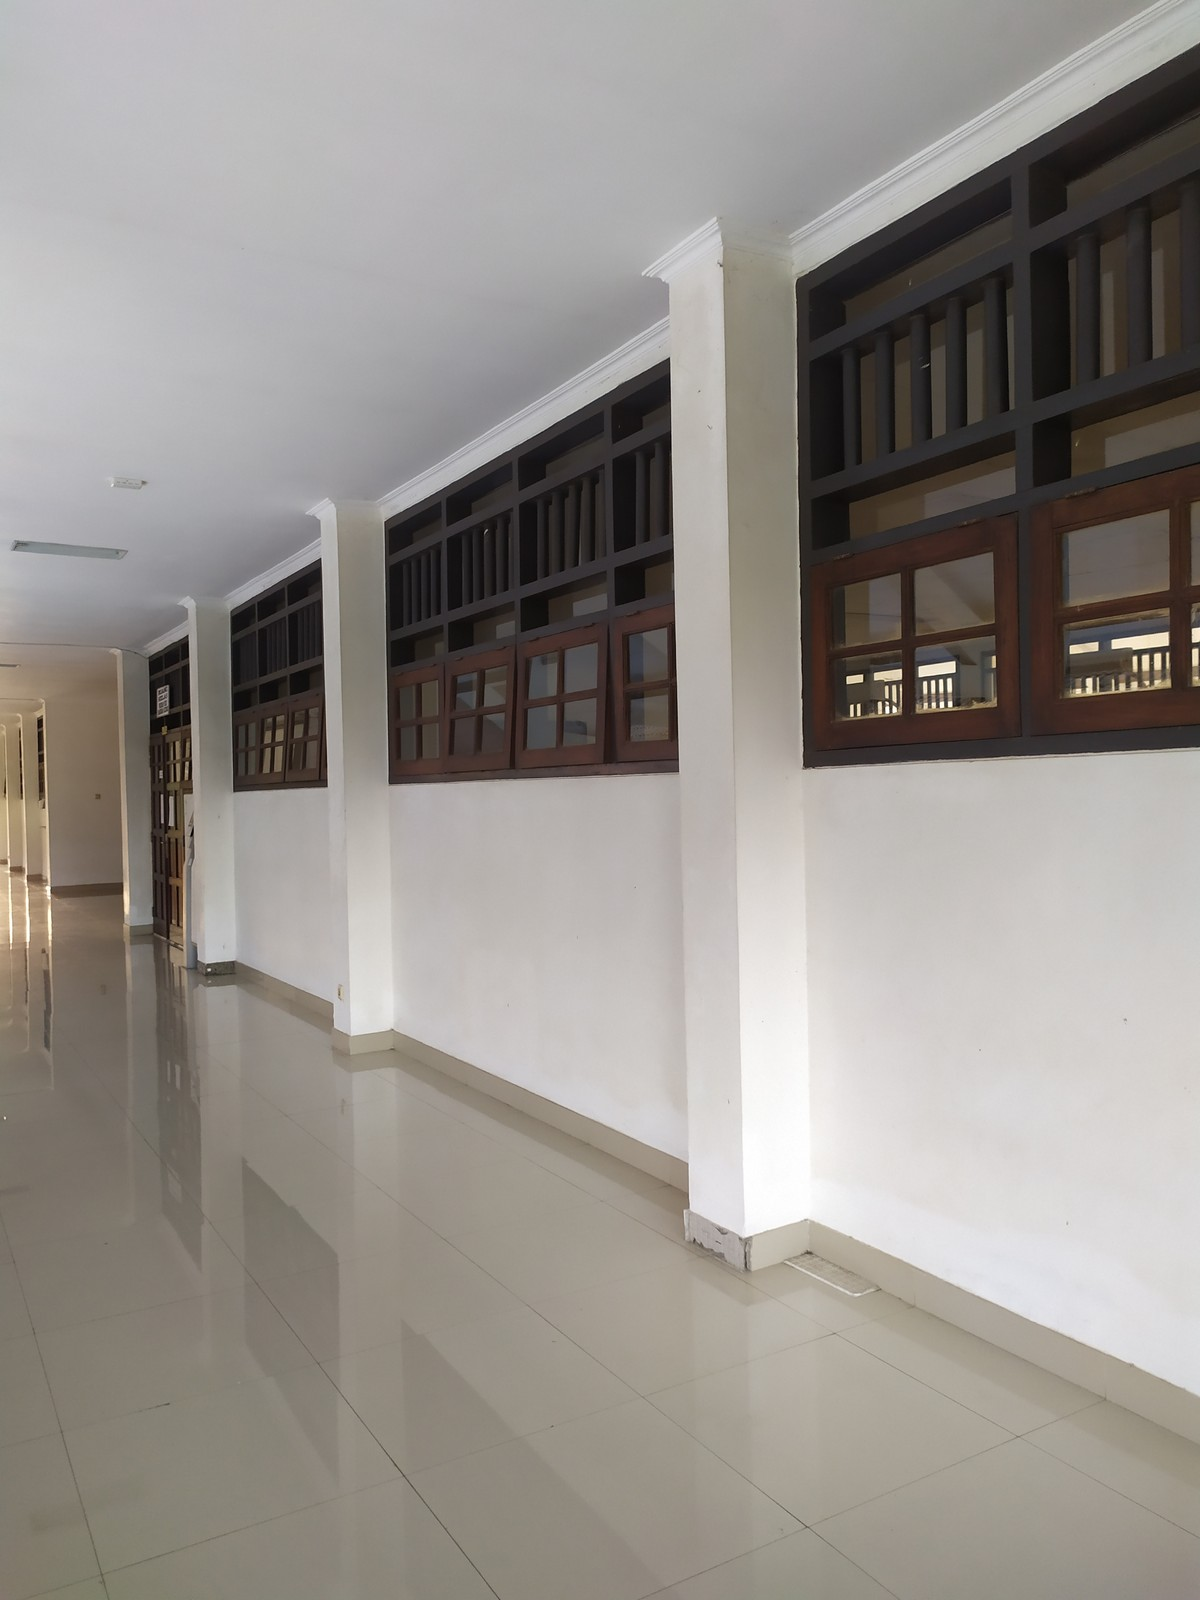concrete column: (650, 249, 834, 1272), (308, 493, 406, 1060), (180, 590, 248, 988), (110, 648, 160, 944)
